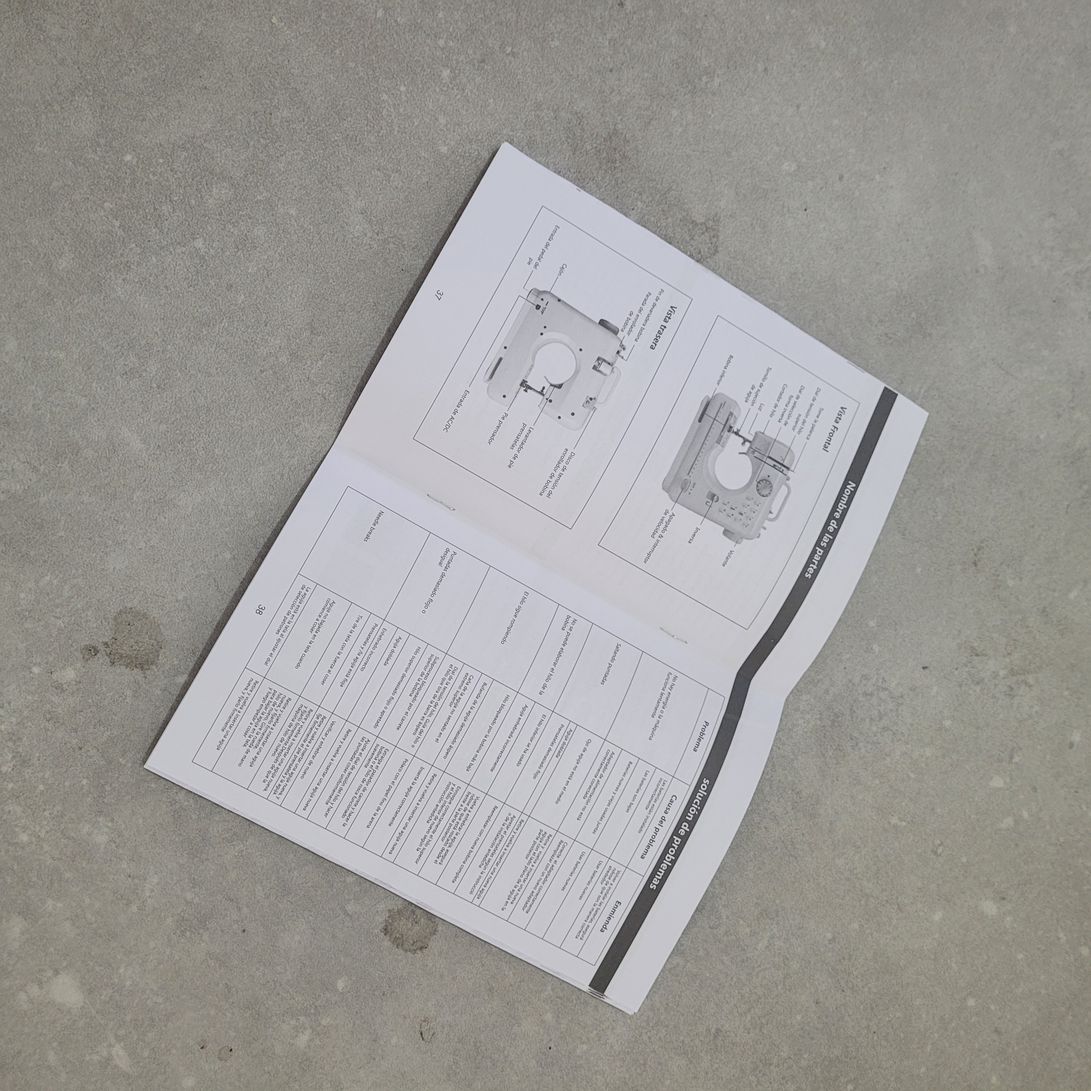paper: (132, 135, 943, 1026)
